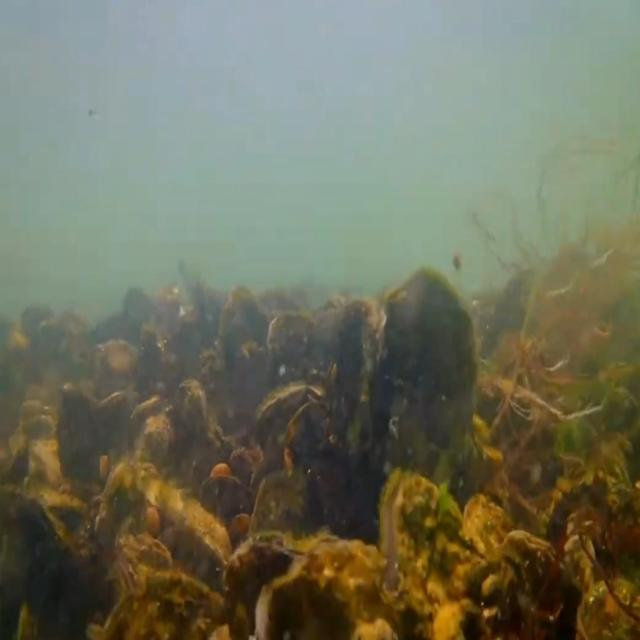Oyster-Closed: (482, 529, 586, 640), (94, 457, 148, 593)
Oyster-Indeterminate: (382, 268, 476, 490), (328, 296, 387, 470), (249, 468, 315, 584), (55, 390, 109, 506), (170, 376, 208, 483), (462, 494, 514, 570), (180, 496, 234, 568), (0, 438, 28, 497)
Oyster-Open: (377, 466, 488, 640), (250, 379, 326, 476), (121, 395, 172, 461), (13, 397, 60, 438)
